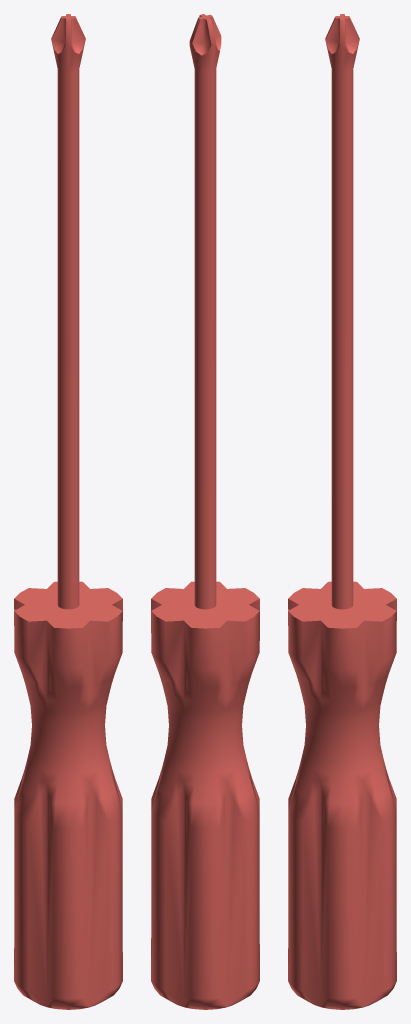
Rendered from ScrewDriver_LP.fbx.
3 renders of one model, left to right at view 1: azimuth 90°, elevation 25°; view 2: azimuth 210°, elevation 25°; view 3: azimuth 270°, elevation 25°, orthographic.
Visible parts, largest first — view 1: ScrewDriverHand_low, ScrewDriverTop_low; view 2: ScrewDriverHand_low, ScrewDriverTop_low; view 3: ScrewDriverHand_low, ScrewDriverTop_low.
Part boxes in pixels (left/top/right/bottom): ScrewDriverHand_low: left=14, top=581, right=122, bottom=1009; ScrewDriverTop_low: left=51, top=14, right=85, bottom=609; ScrewDriverHand_low: left=151, top=581, right=259, bottom=1009; ScrewDriverTop_low: left=189, top=14, right=221, bottom=609; ScrewDriverHand_low: left=288, top=581, right=396, bottom=1009; ScrewDriverTop_low: left=325, top=14, right=359, bottom=609.
Size of the model in its own units: 103 by 990 by 99.23.
